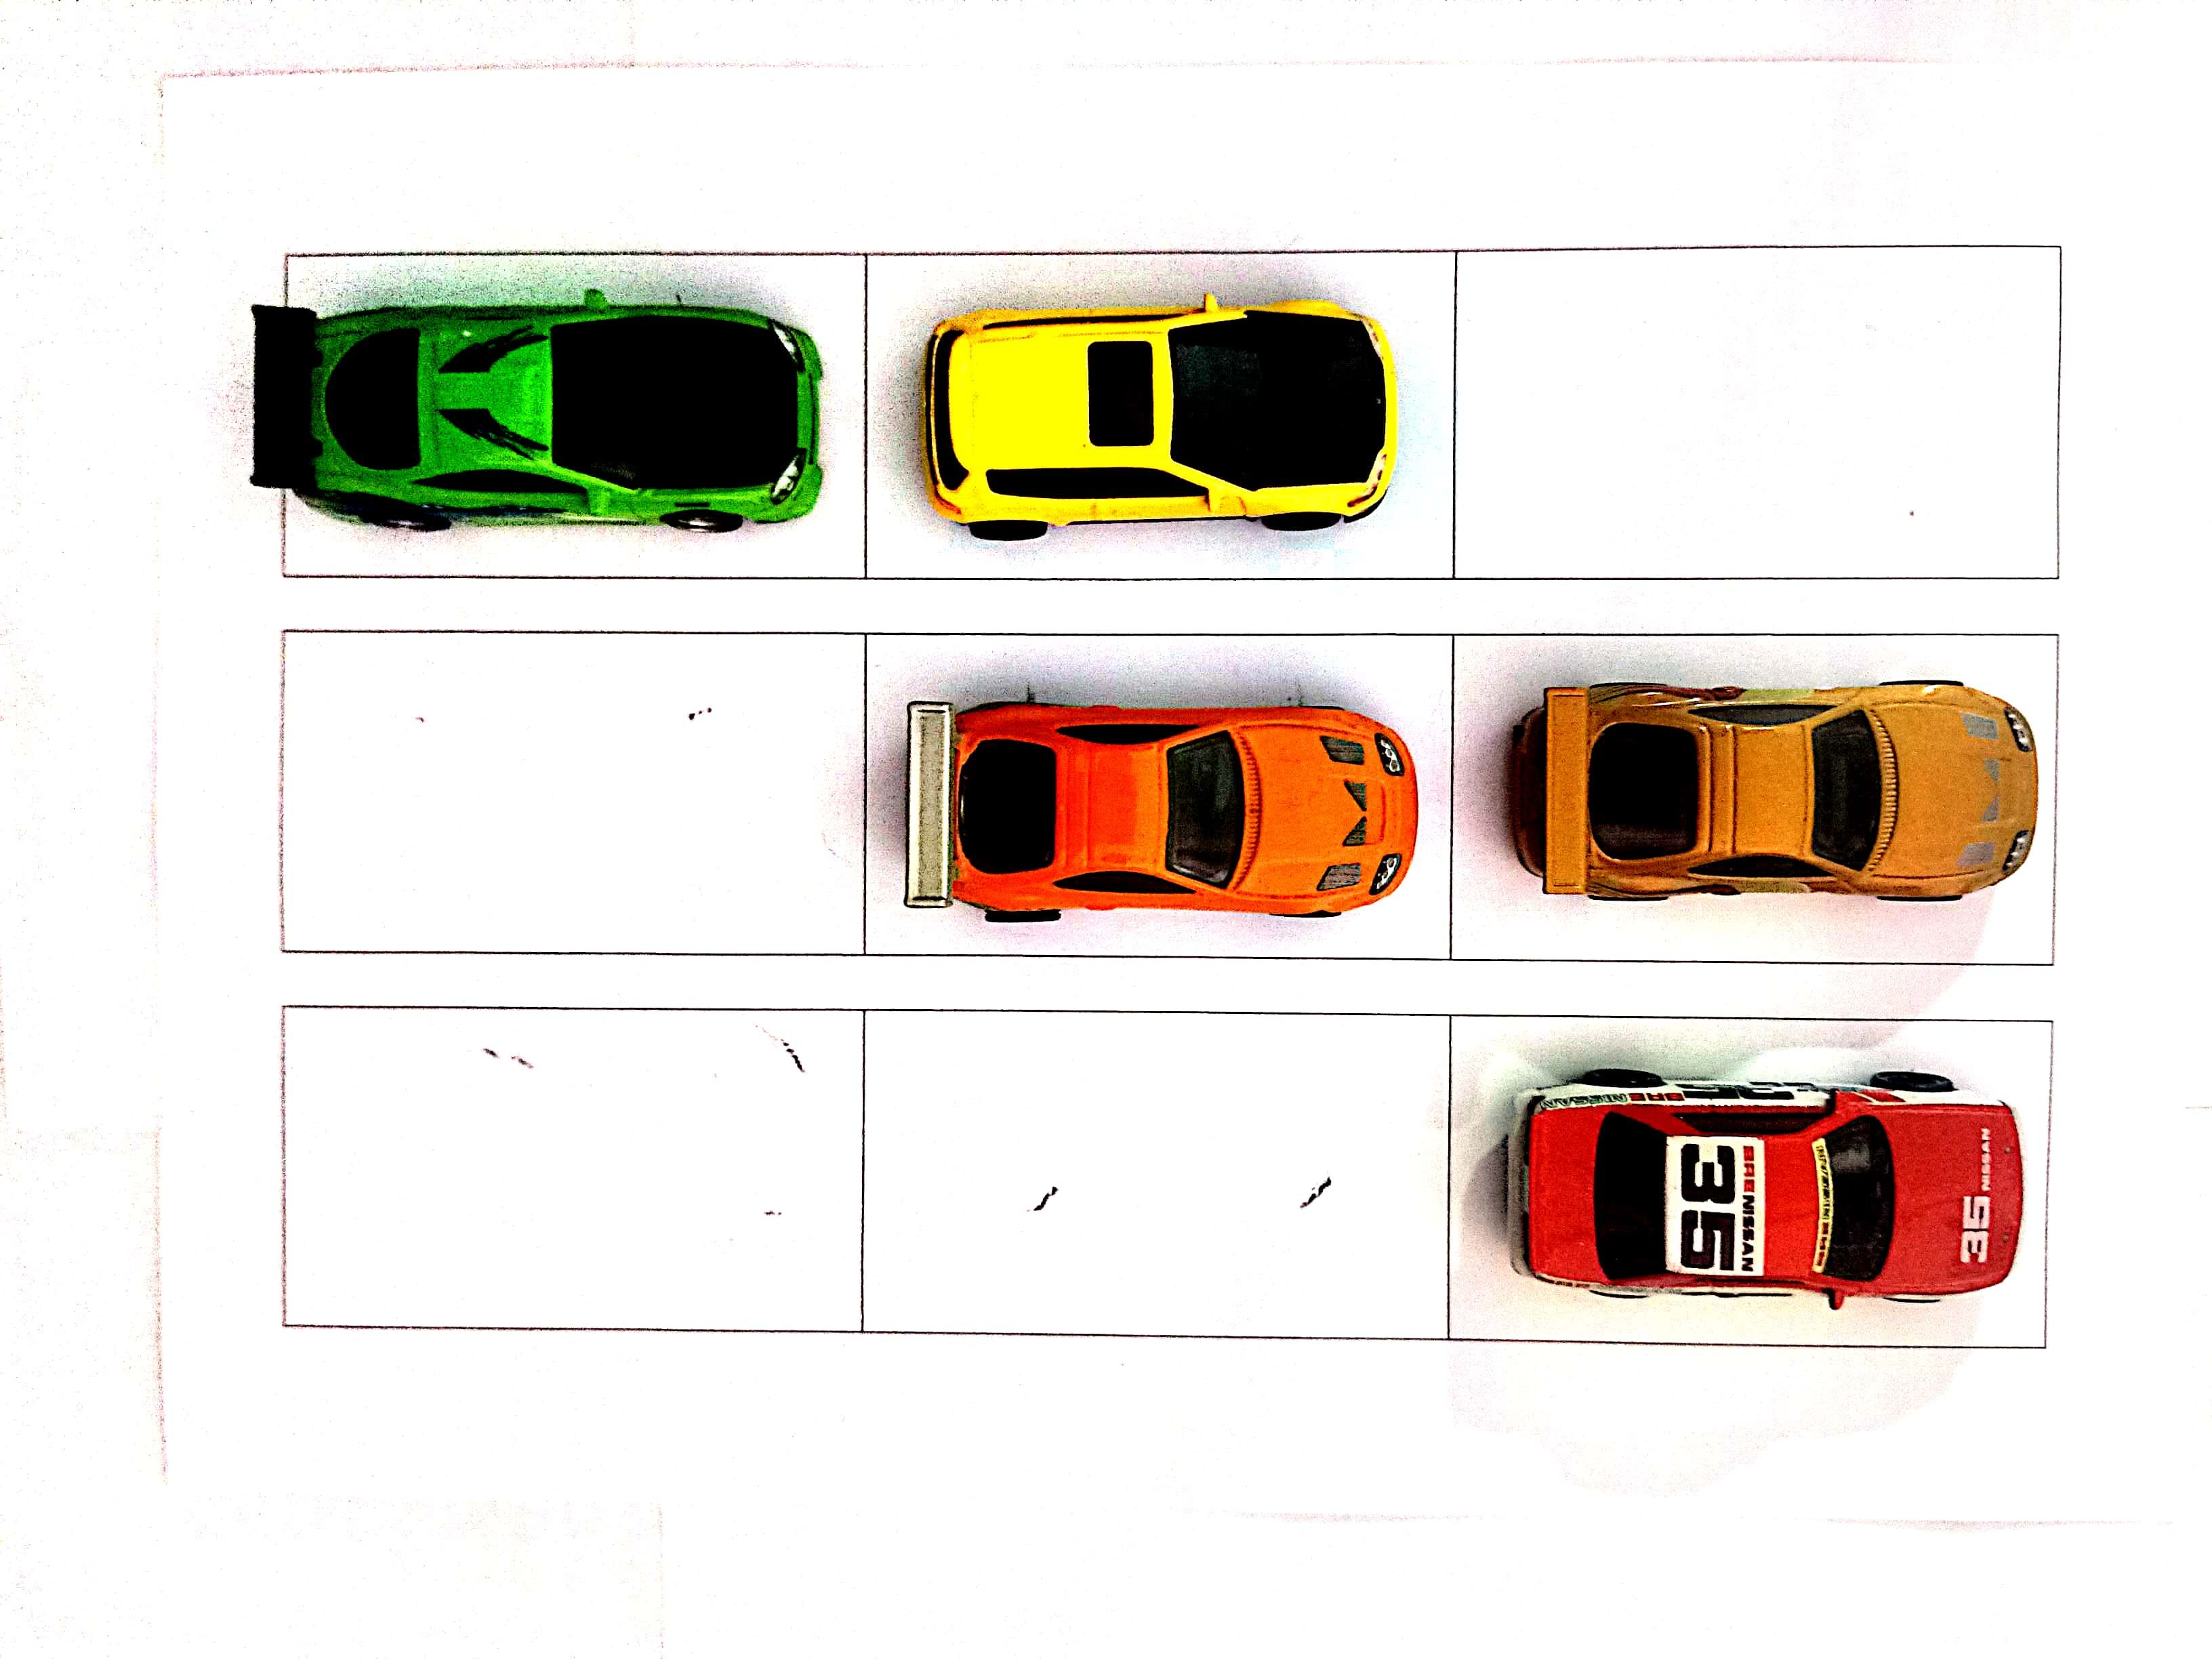Busy: (1446, 1018, 2055, 1345), (871, 246, 1449, 575), (1454, 640, 2055, 955), (287, 258, 869, 580), (871, 633, 1446, 955)
Free: (1454, 246, 2054, 577), (282, 631, 866, 955), (866, 1018, 1446, 1340), (279, 1014, 860, 1331)
